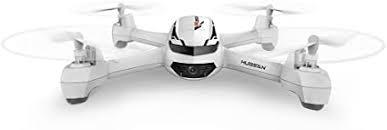drone: (58, 3, 332, 112)
